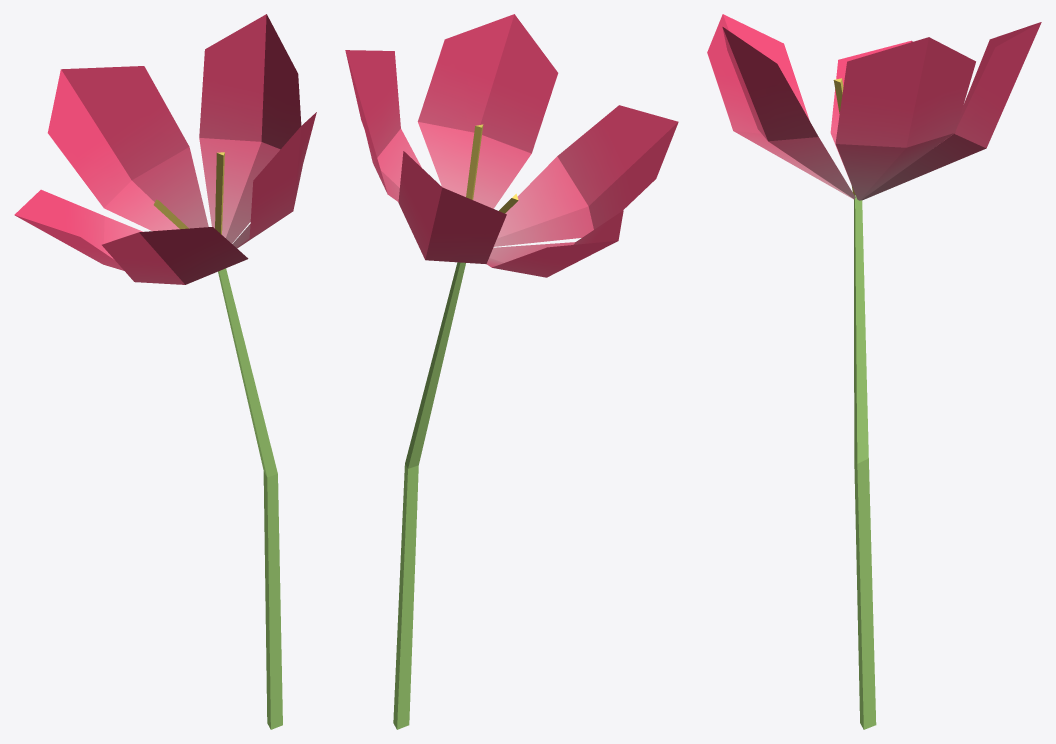
File: Flower_f_TwoS_04.fbx
3 renders of one model, left to right at view 1: azimuth 30°, elevation 25°; view 2: azimuth 150°, elevation 25°; view 3: azimuth 270°, elevation 25°, orthographic. The views are drawn at different scales.
Parts seen in each view (by area): view 1: Flower_f_TwoS_04; view 2: Flower_f_TwoS_04; view 3: Flower_f_TwoS_04.
Part boxes in pixels (x1,y1,x2,y2): Flower_f_TwoS_04: (14, 14, 316, 729); Flower_f_TwoS_04: (345, 14, 678, 729); Flower_f_TwoS_04: (707, 14, 1041, 729).
Size of the model in its own units: 21.6 by 54.05 by 23.4.
